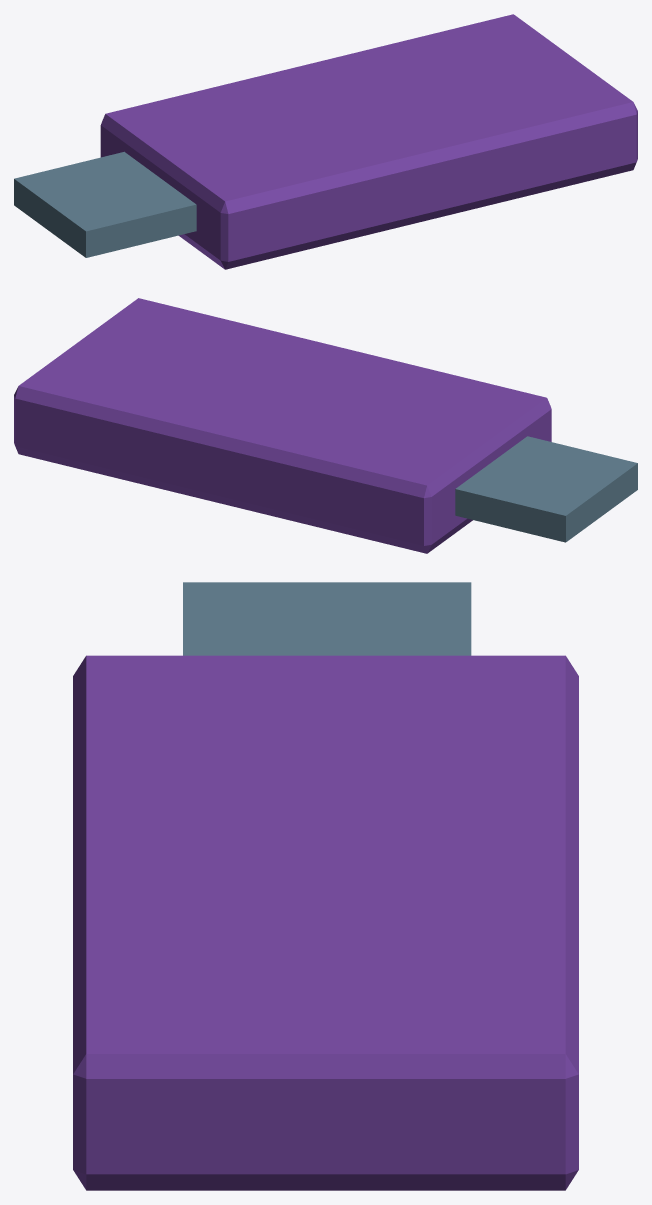
File: USB.fbx
3 views of the same model, one above another, from view 1: azimuth 30°, elevation 25°; view 2: azimuth 150°, elevation 25°; view 3: azimuth 270°, elevation 25° (orthographic). The views are drawn at different scales.
Visible parts, largest first — view 1: pCube26; view 2: pCube26; view 3: pCube26.
Part boxes in pixels (<box>): pCube26: <box>14,14,637,269</box>; pCube26: <box>14,298,637,553</box>; pCube26: <box>73,582,578,1190</box>.
Bounding box in the file's own units: 3.46 × 0.4272 × 1.43.
